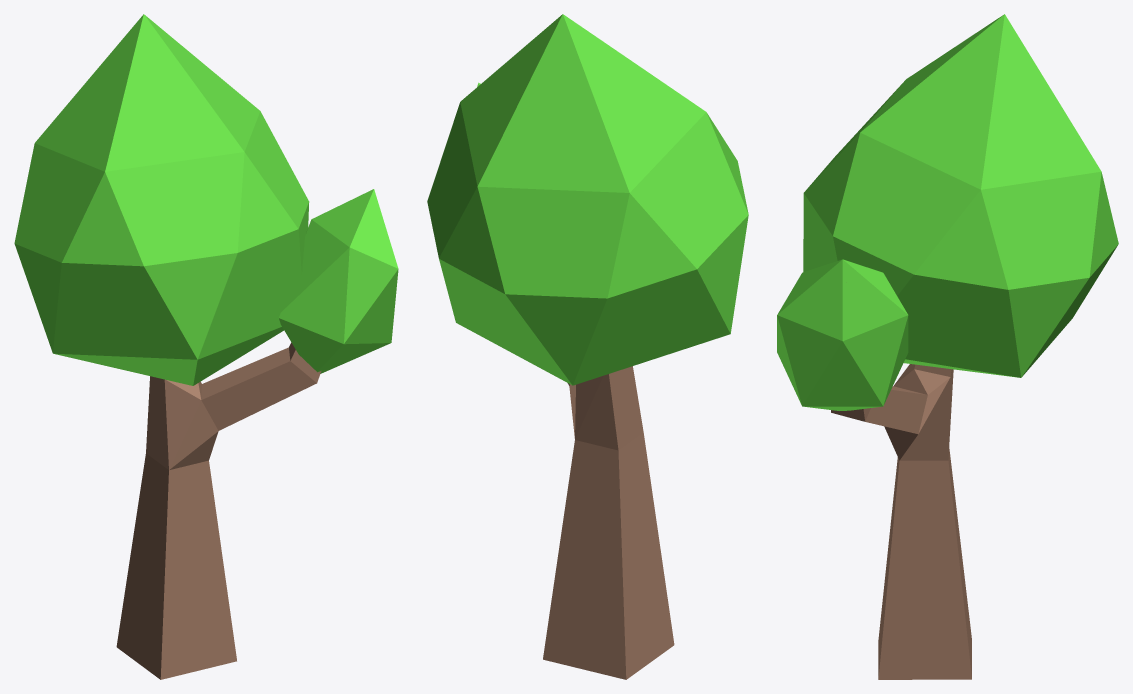
Rendered from Tree2_Model.fbx.
3 renders of one model, left to right at view 1: azimuth 30°, elevation 25°; view 2: azimuth 150°, elevation 25°; view 3: azimuth 270°, elevation 25°, orthographic. The views are drawn at different scales.
Parts seen in each view (by area): view 1: Tree_2; view 2: Tree_2; view 3: Tree_2.
Part boxes in pixels (x1,y1,x2,y2): Tree_2: (14,14,398,679); Tree_2: (427,14,748,679); Tree_2: (777,14,1118,679).
Bounding box in the file's own units: 205 × 404 × 193.
